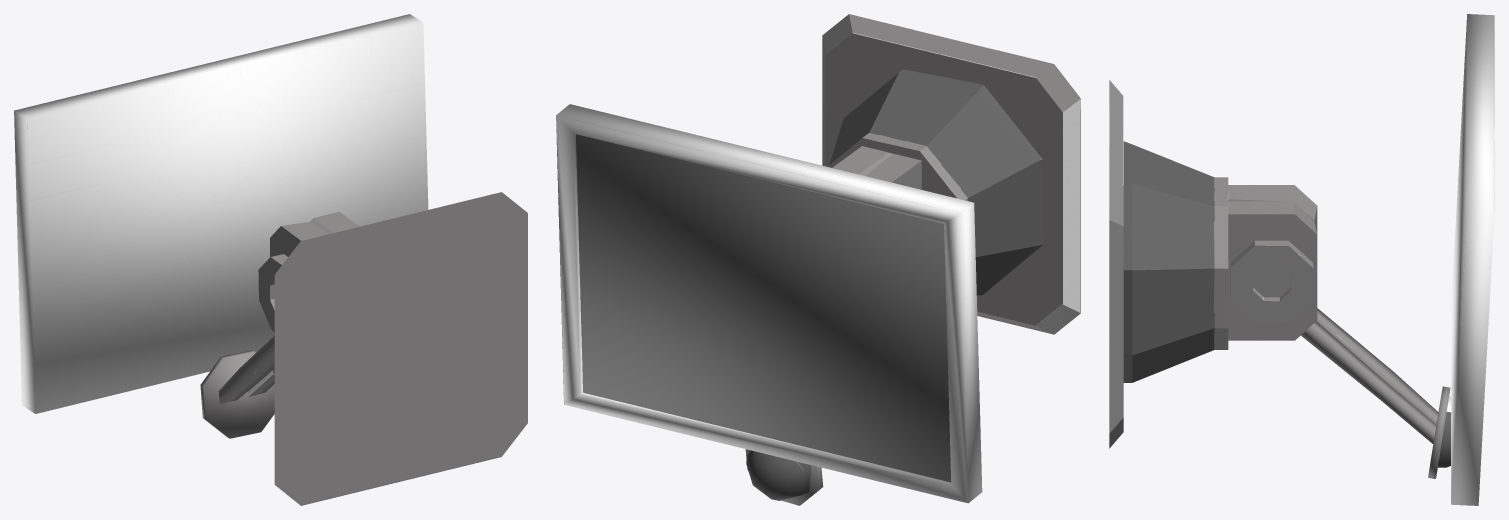
The model's file is Computer.fbx.
3 renders of one model, left to right at view 1: azimuth 30°, elevation 25°; view 2: azimuth 150°, elevation 25°; view 3: azimuth 270°, elevation 25°, orthographic. The views are drawn at different scales.
Visible parts, largest first — view 1: Computer; view 2: Computer; view 3: Computer.
Boxes of the visible parts, x1,y1,x2,y2 form: Computer: (14, 14, 527, 505); Computer: (556, 14, 1080, 505); Computer: (1109, 14, 1494, 505).
Size of the model in its own units: 12.24 by 10.41 by 10.14.
